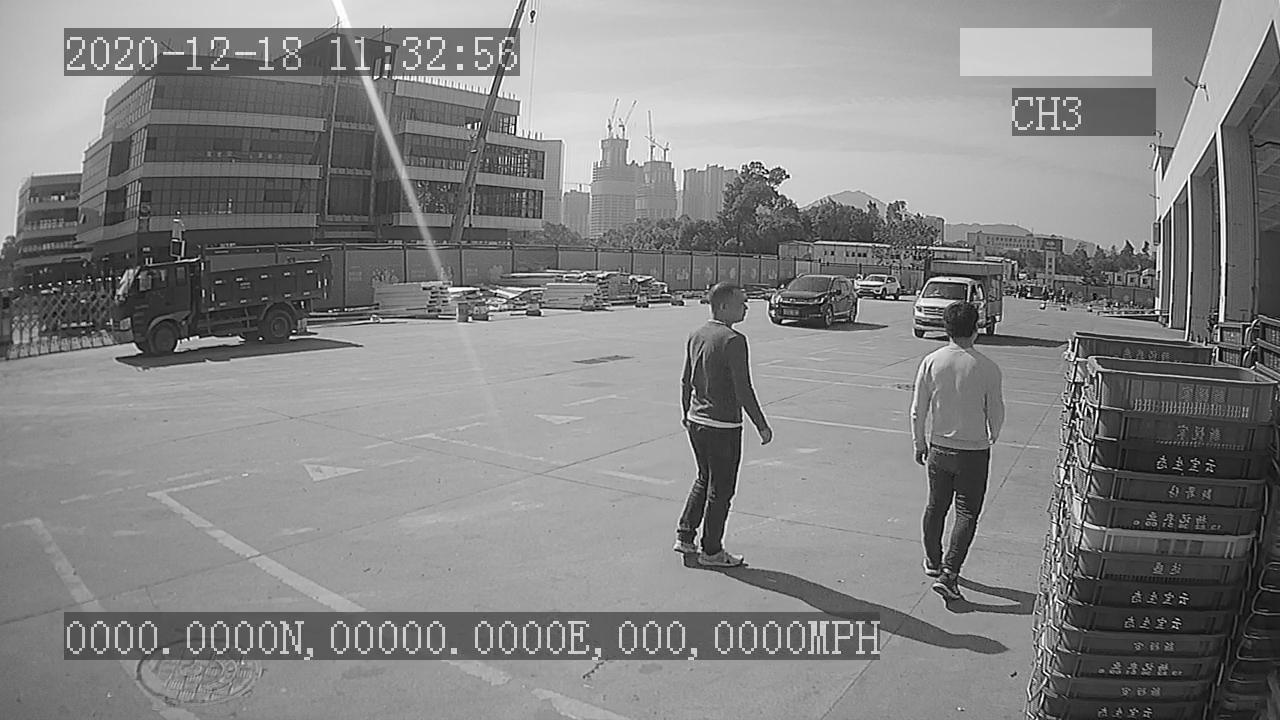person: (669, 280, 773, 569)
